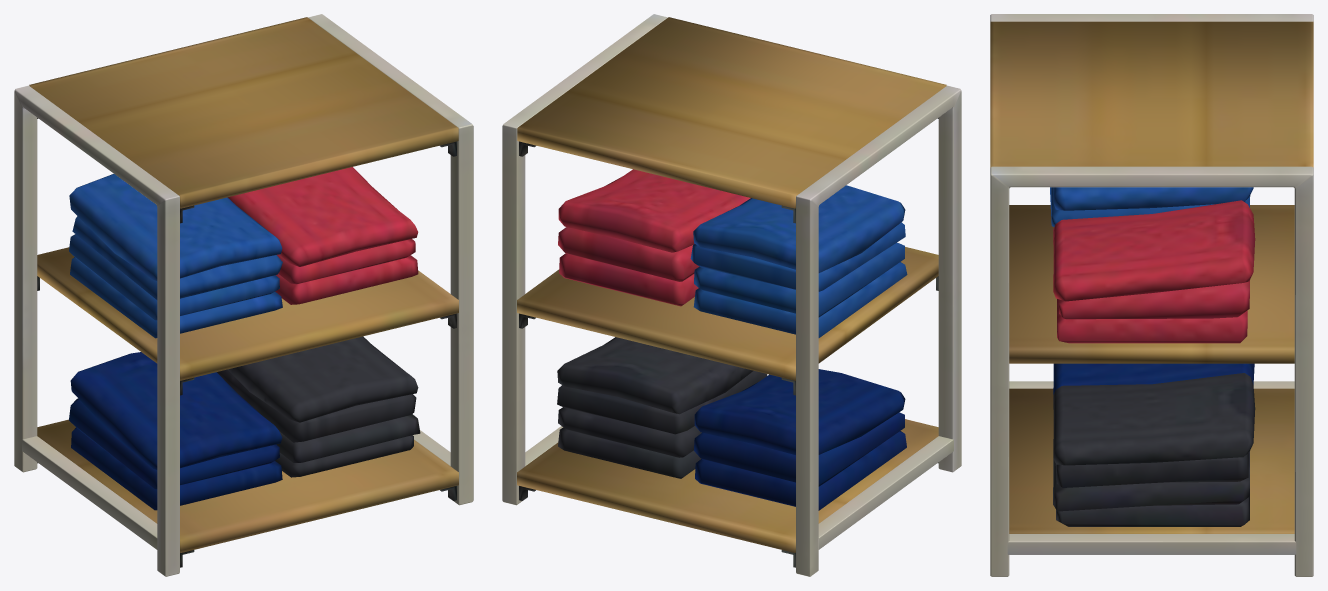
3 views of the same model, side by side, from view 1: azimuth 30°, elevation 25°; view 2: azimuth 150°, elevation 25°; view 3: azimuth 270°, elevation 25° (orthographic). The views are drawn at different scales.
Size of the model in its own units: 10 by 11.7 by 8.5.
1 material, 1 textured.
